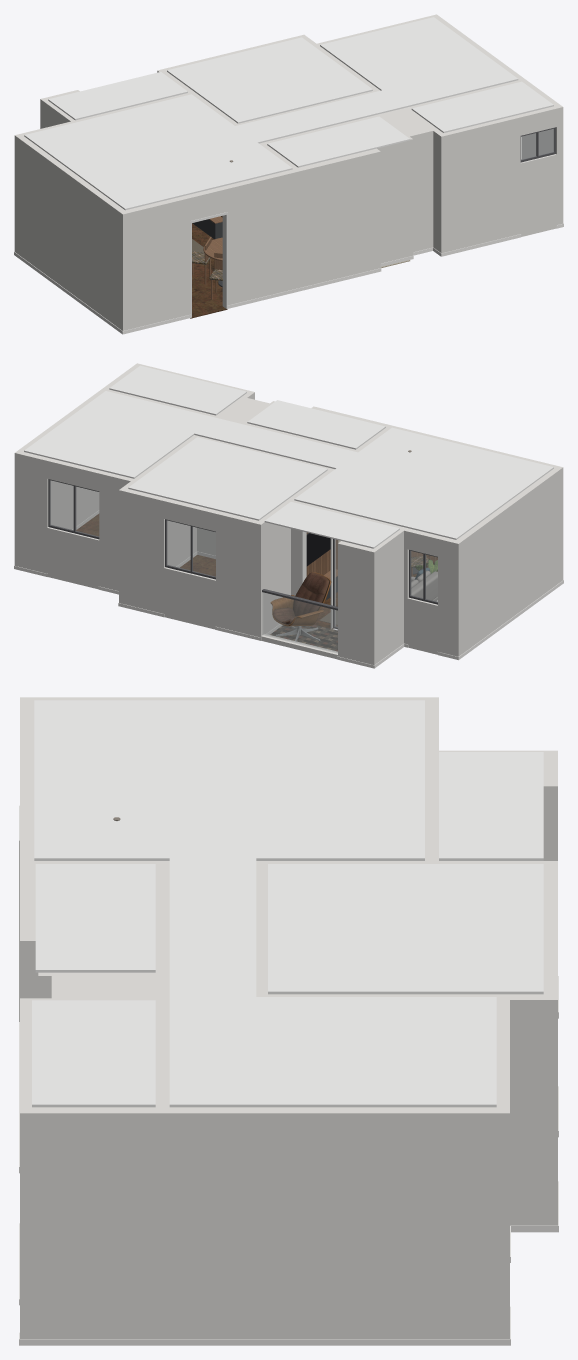
Rendered from apto.glb.
3 views of the same model, one above another, from view 1: azimuth 30°, elevation 25°; view 2: azimuth 150°, elevation 25°; view 3: azimuth 270°, elevation 25° (orthographic). The views are drawn at different scales.
Visible parts, largest first — view 1: estrutura, moveis, Vidro39; view 2: estrutura, moveis, Vidro8, Vidro15, Vidro23, Vidro3; view 3: estrutura.
Boxes of the visible parts, <box> form: estrutura: <box>14,14,563,334</box>; moveis: <box>192,160,233,299</box>; Vidro39: <box>521,129,554,159</box>; estrutura: <box>14,363,563,668</box>; moveis: <box>270,450,437,641</box>; Vidro8: <box>262,592,337,653</box>; Vidro15: <box>167,520,215,576</box>; Vidro23: <box>50,480,98,536</box>; Vidro3: <box>410,551,437,601</box>; estrutura: <box>19,697,558,1345</box>.
Size of the model in its own units: 10.02 by 2.67 by 5.48.
Materials: 31 (18 with a texture image).
